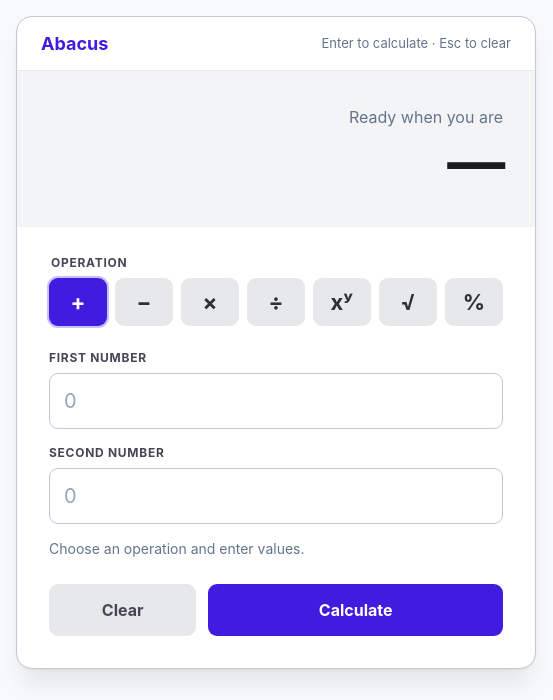
Calculator › calculates through the API and preserves the expression
This screenshot has width=553, height=700.
Check: the button named "Addition" is shown, box [49,278,107,326]
Click the button named "Division" at {"x": 276, "y": 302}, box [247,278,305,326]
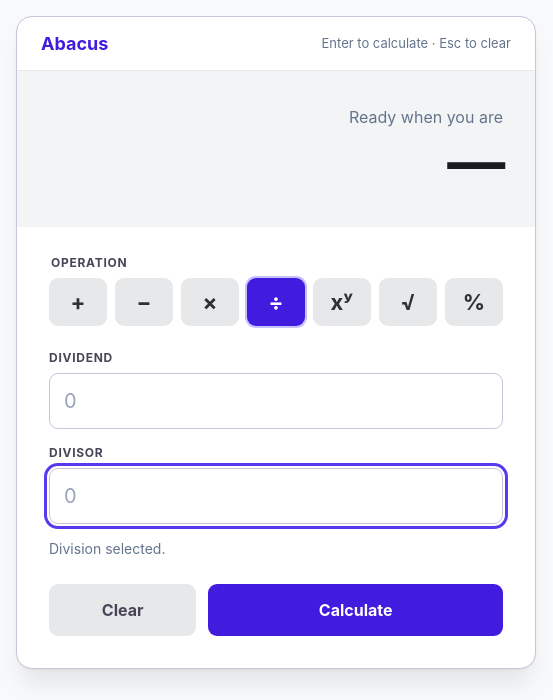
Type "144" into the field labelled "Dividend" at {"x": 276, "y": 400}, box [49,372,503,428]
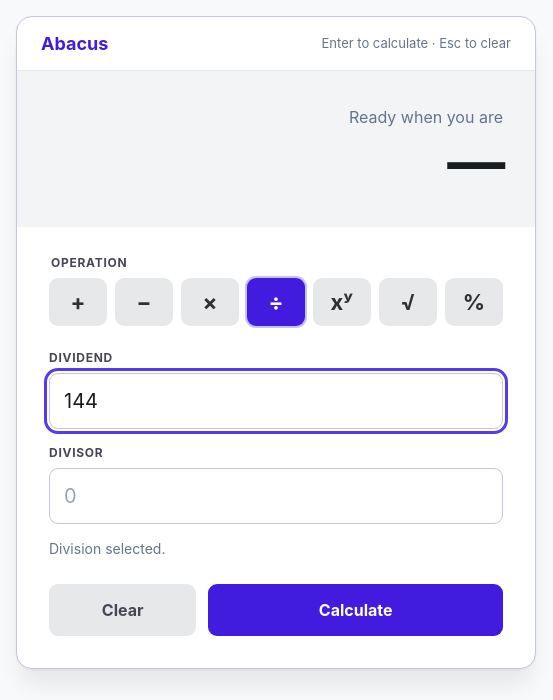
Type "12" into the field labelled "Divisor" at {"x": 276, "y": 496}, box [49,468,503,524]
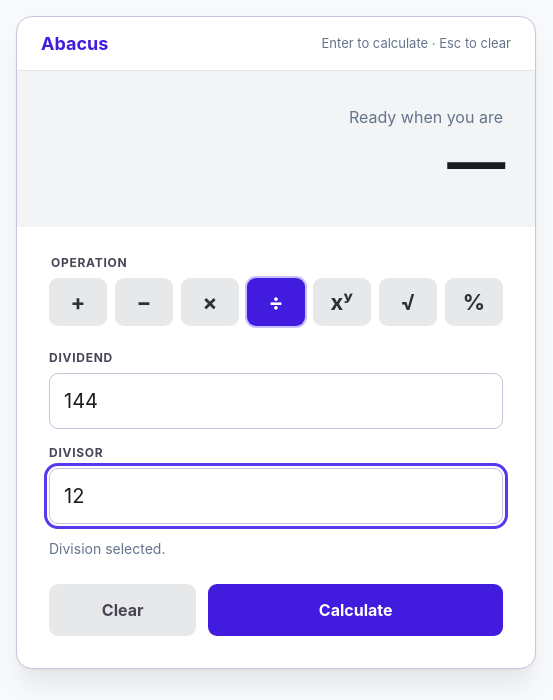
Click the button "Calculate" at {"x": 356, "y": 610}, box [208,584,503,636]
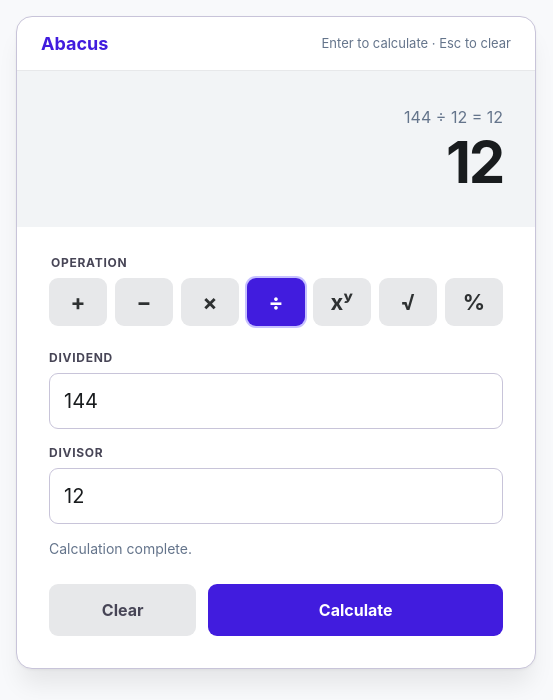
Check: the text "144 ÷ 12 = 12" is shown, box [404,106,503,126]
Check: the text "12" is shown, box [446,132,503,190]
